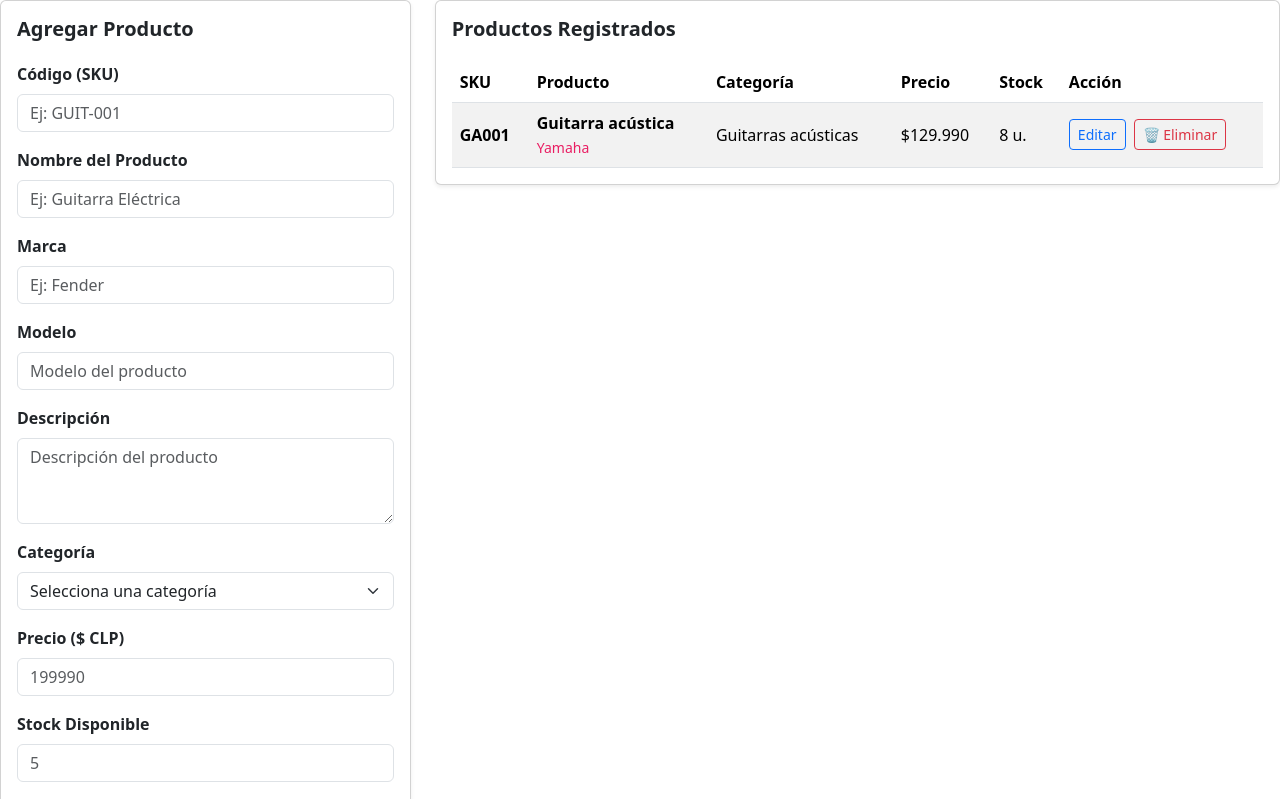
administración de productos › actualiza productos por id y presenta el mensaje y los detalles de la API
Click the button "Editar".
click(1097, 135)  # box [1069,119,1126,150]
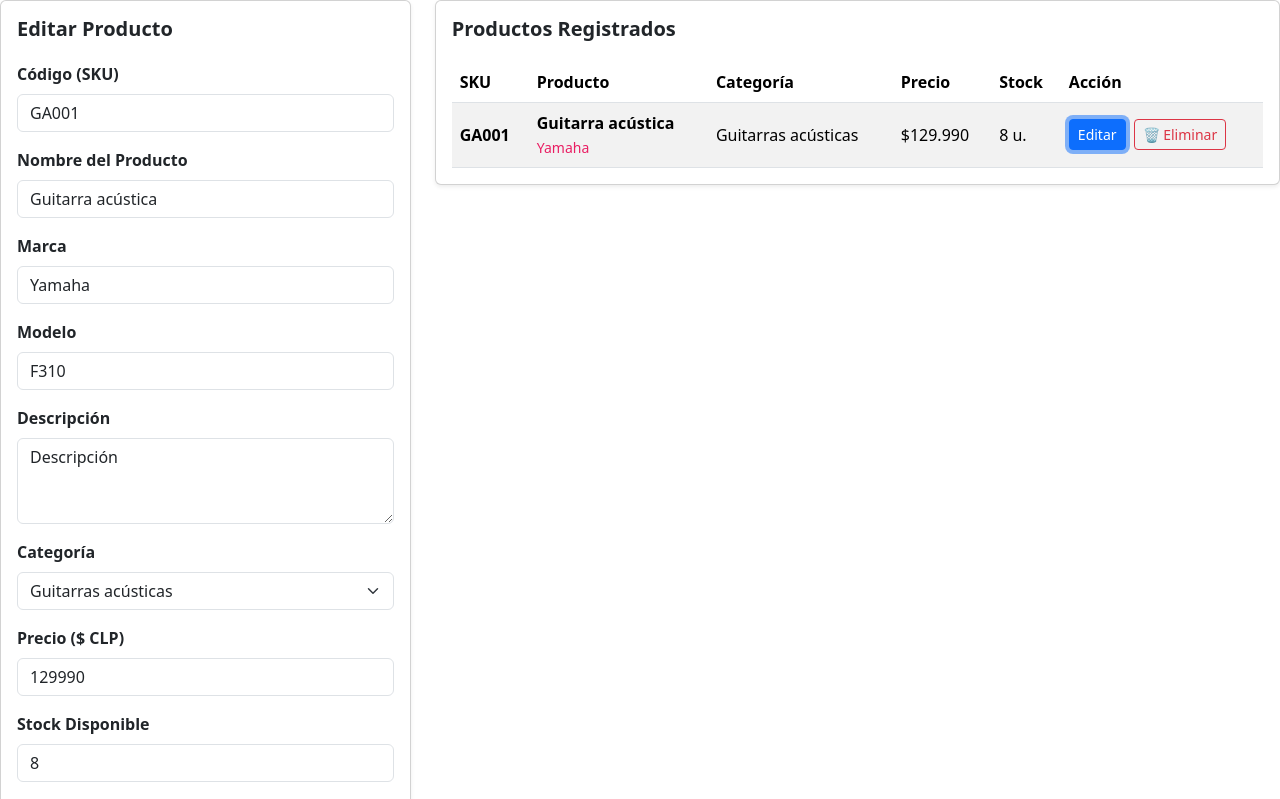
Replace the text in the field with placeholder "Ej: Guitarra Eléctrica" below "Nombre del Producto" with "Guitarra renovada" at [205, 199], box [17,180,394,218]
(page scrolled)
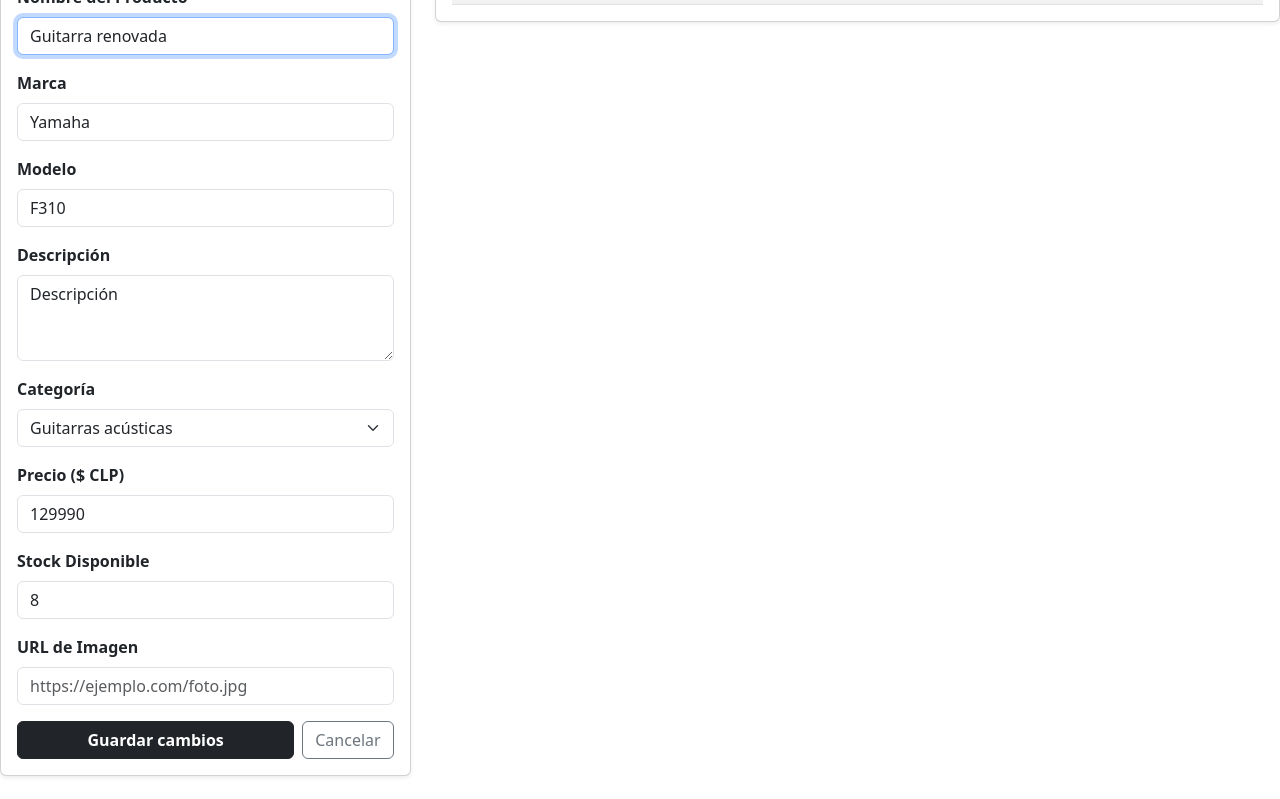
Click the button "Guardar cambios".
click(156, 740)  # box [17,721,294,759]
(page scrolled)
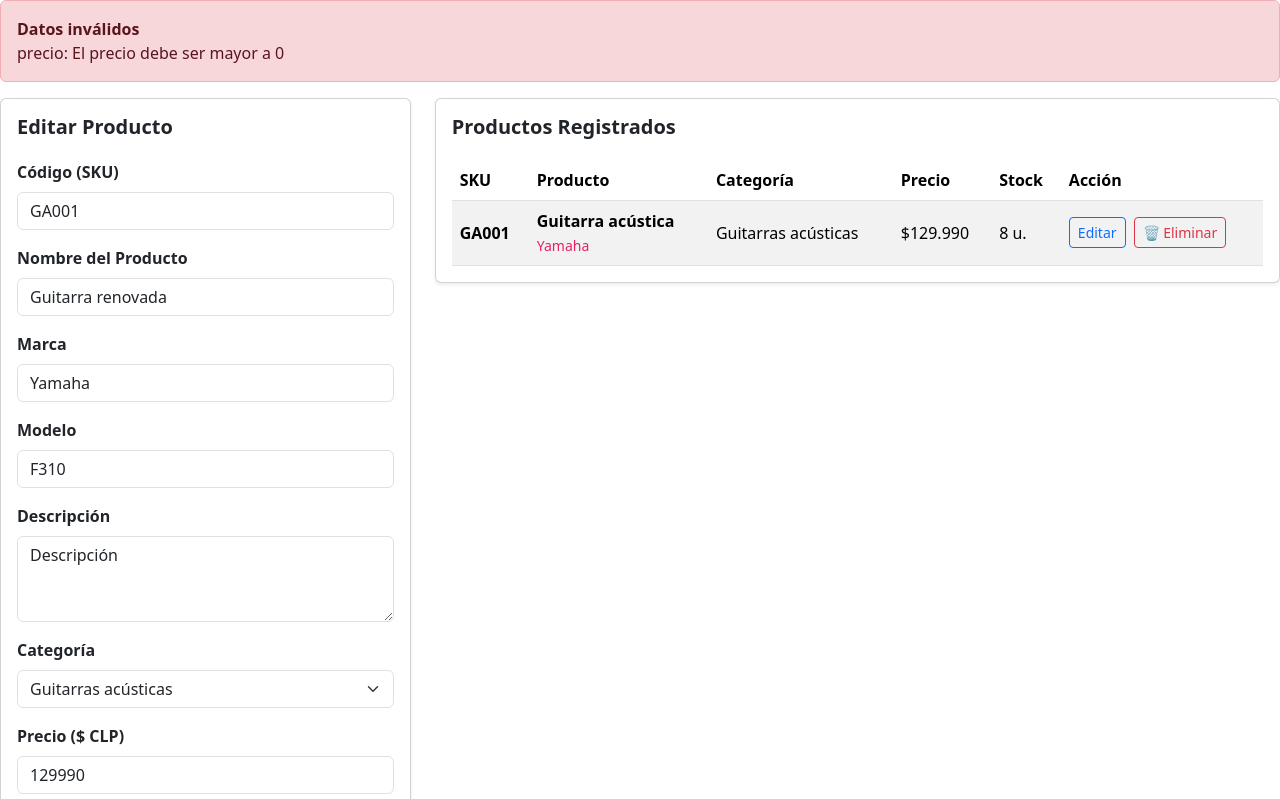
Expected: the message shows "Datos inválidos", [17,18,139,40]
Expected: the message shows "precio: El precio debe ser mayor a 0", [0,0,1279,82]
